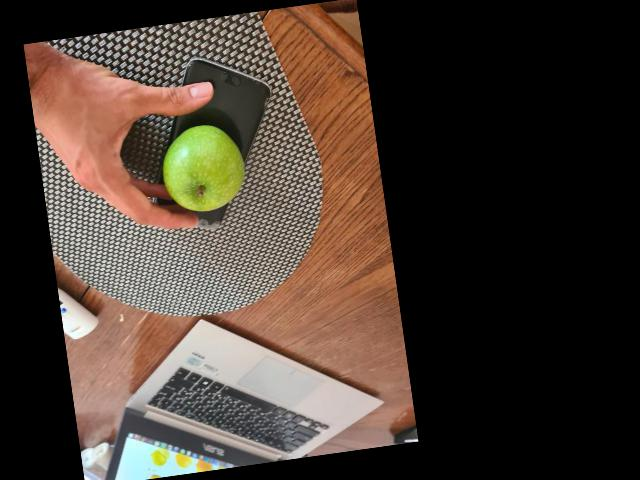apple: (162, 122, 250, 212)
